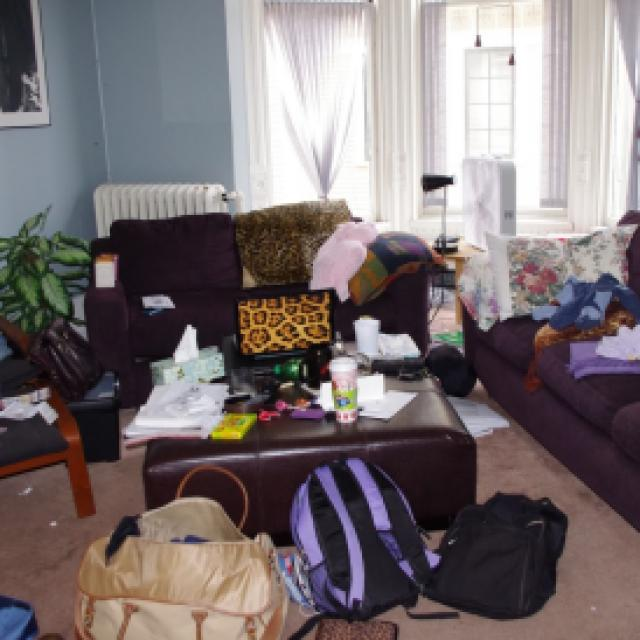mess: (98, 235, 513, 623)
